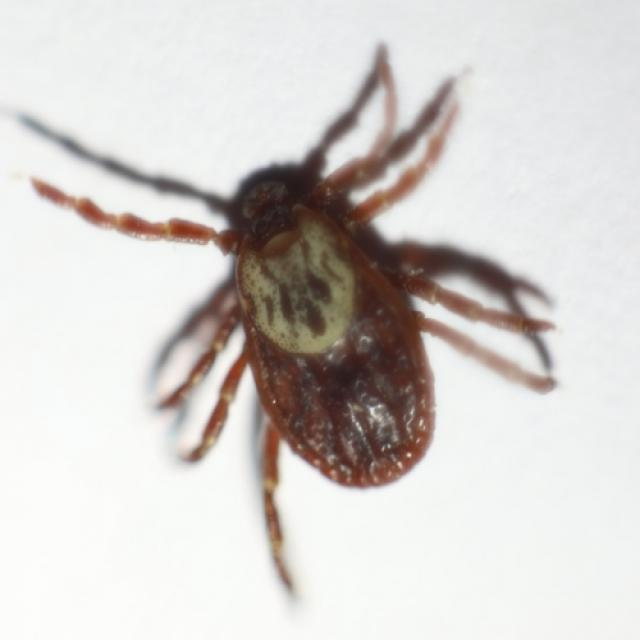Dermacentor Reticulatus-F: (29, 42, 559, 608)
